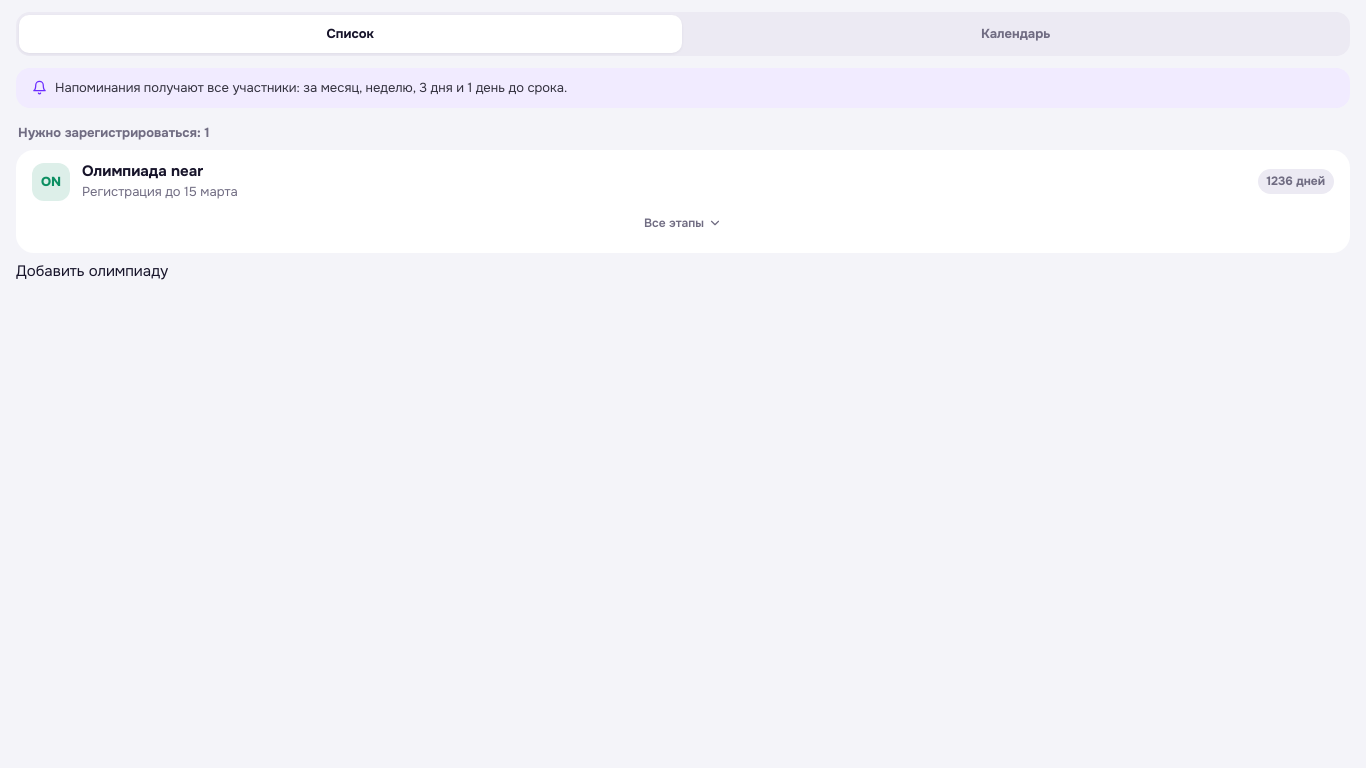
Test: при каждом входе в календарь снова показывает ближайший срок
Click the tab "Календарь": (1016, 34) [684,15,1347,53]
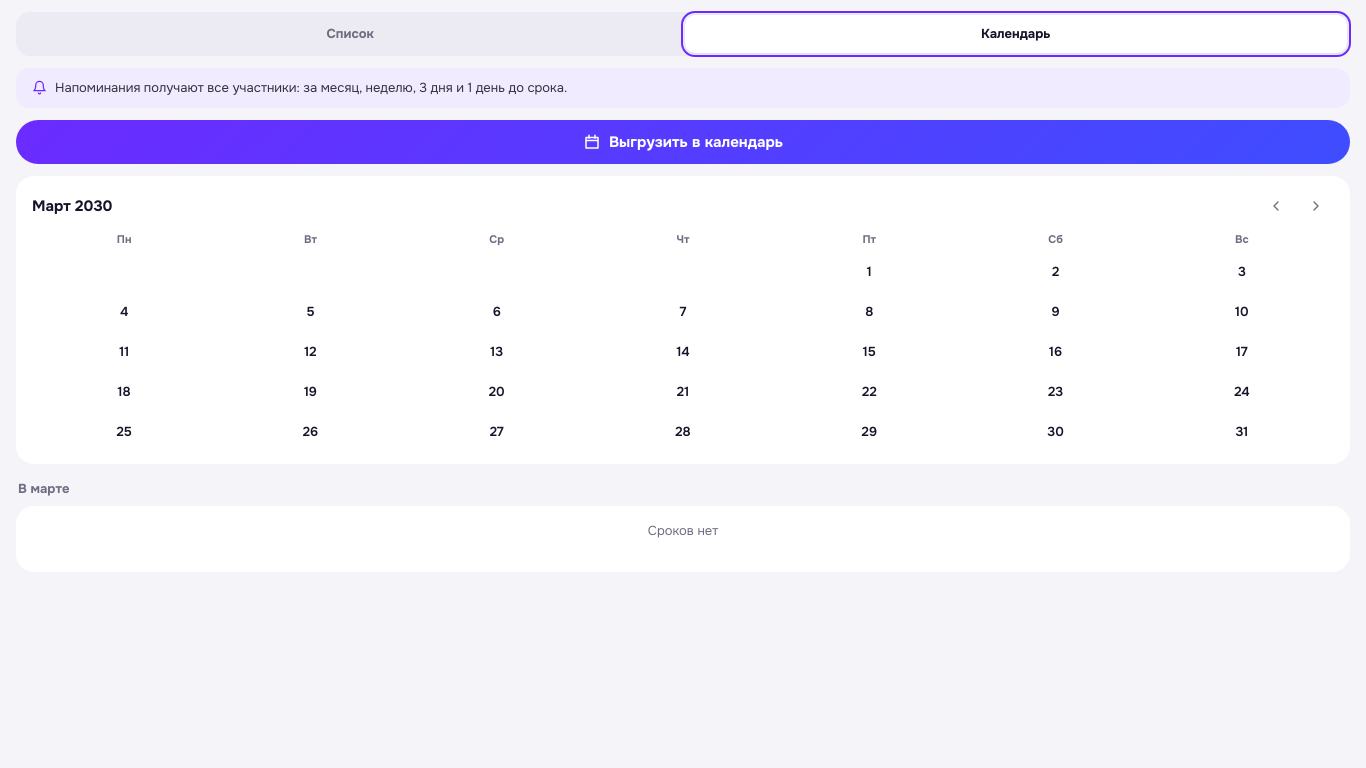
Click the button named "Следующий месяц": (1316, 206) [1298,188,1334,224]
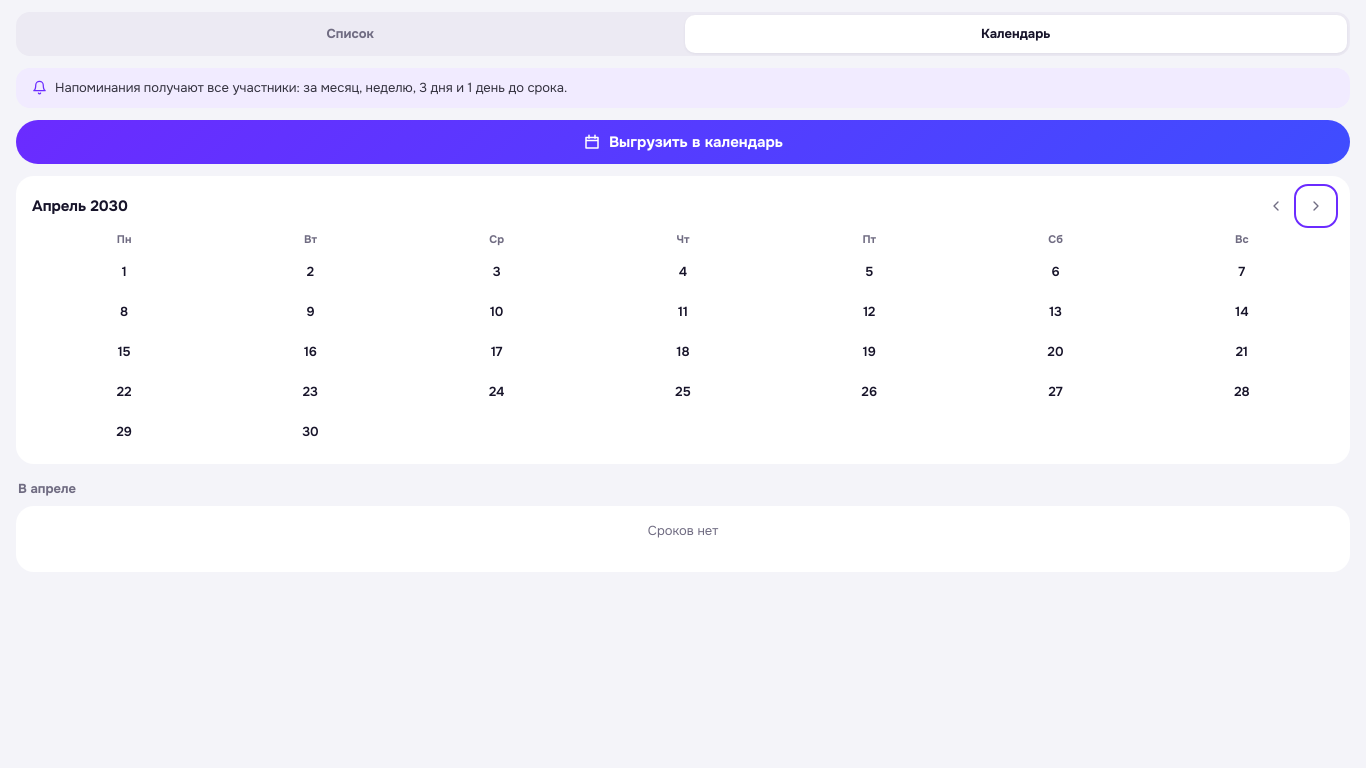
Now the text "Апрель 2030" is shown, box [32,196,128,217]
Click the tab "Список": (350, 34) [19,15,682,53]
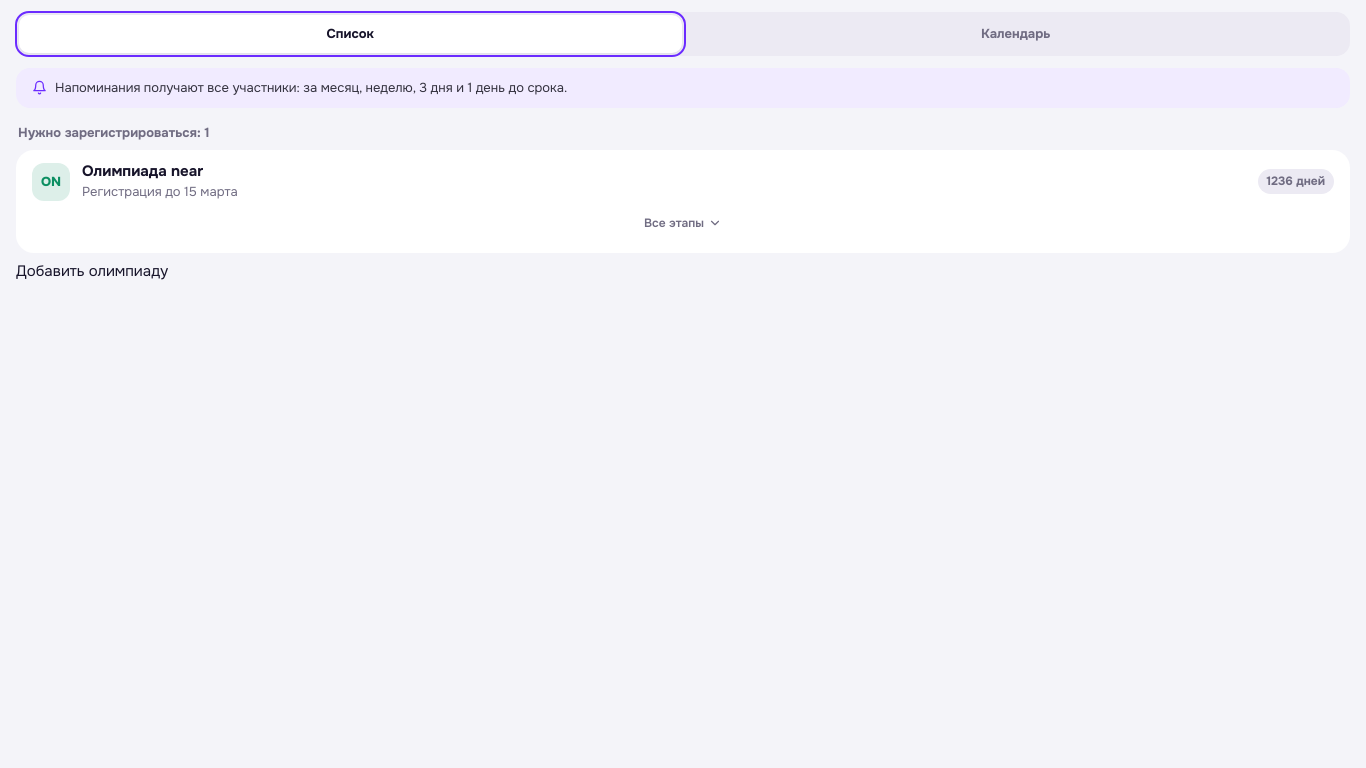
Click the tab "Календарь": (1016, 34) [684,15,1347,53]
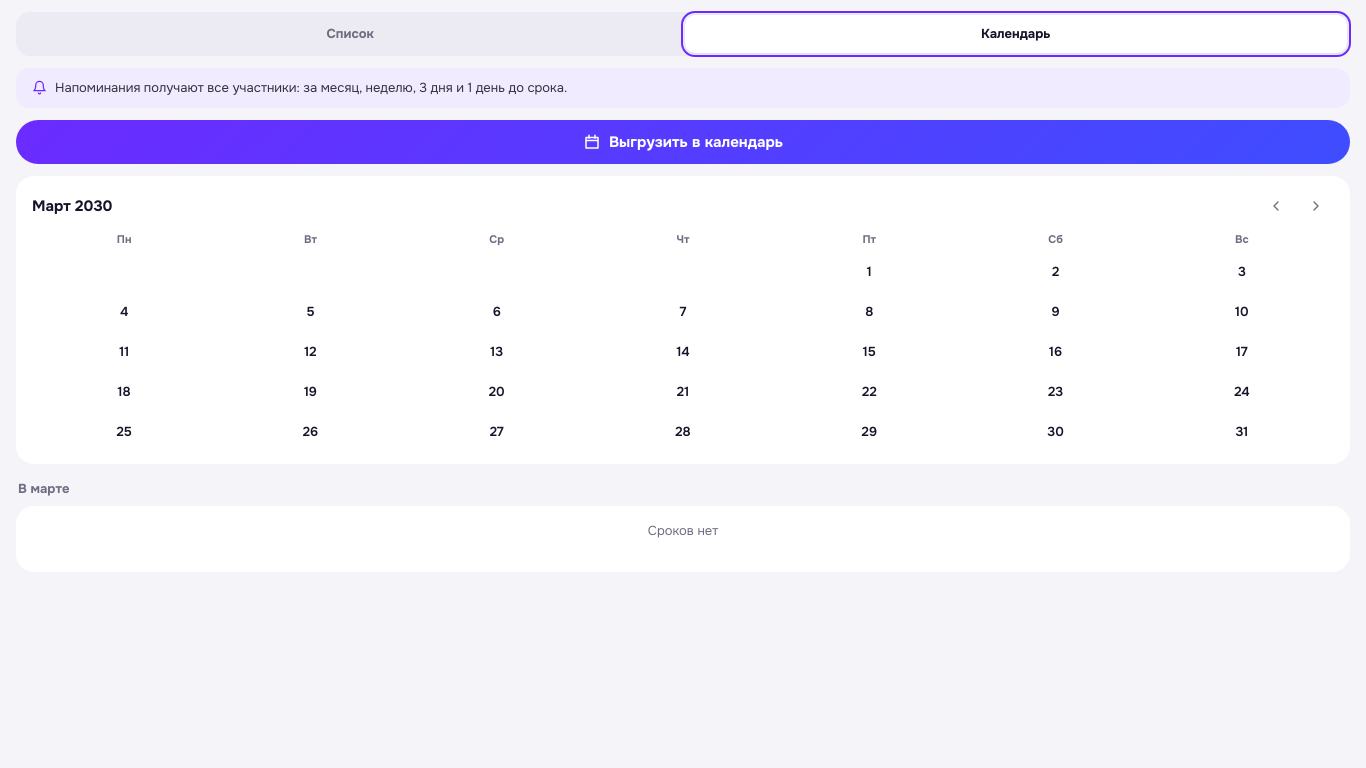
Now the text "Март 2030" is shown, box [32,196,112,217]
